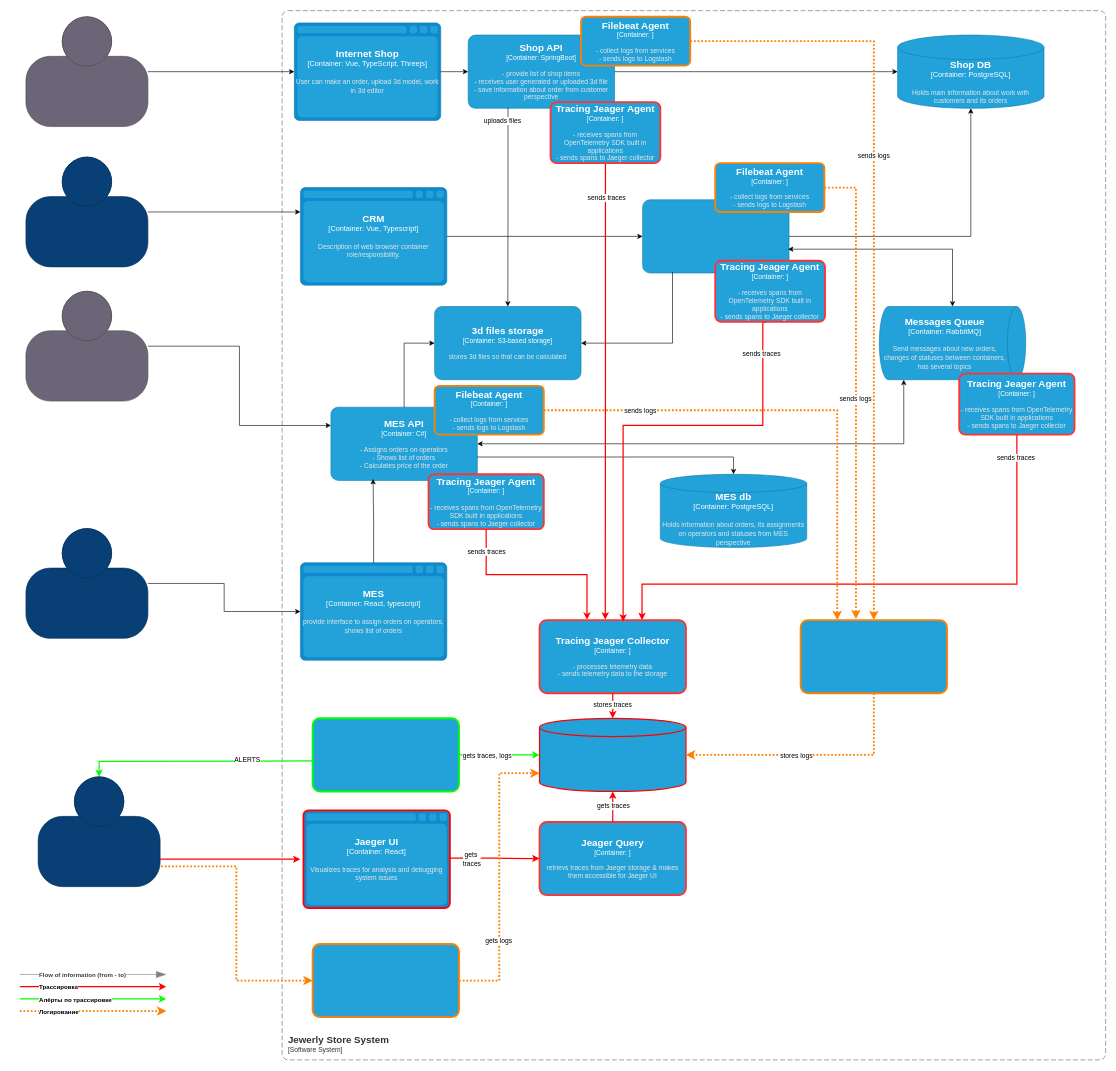
Image size: 1116x1071. Some labels were removed from this diagram. Here are the shapes that lost their labels. From the top down, the centre of each, then its label:
point 86,71: Customer [Person] Description of external person.
point 86,211: Seller [Person] Operates with order, confirms manufacturing for the user
point 715,236: CRM API [Container: SpringBoot] Description of container role/responsibility.
point 86,346: API user [Person] Description of external person.
point 86,583: Operator [Person] Takes order in work, manufactures jewerly
point 873,656: Logstash [Container: ] - collects logs - sends to Elasticsearch storage
point 385,754: Grafana [Container: ] - analyzes span traces - fires configured alerts
point 612,754: Jeager storage backend [Container: ElasticSearch] - stores telemetry data
point 99,831: OnCall IT Support Engineer [Person] OnCall 24x7 team
point 385,980: Kibana [Container: ] - gets logs from Elasticsearch storage - visualization
